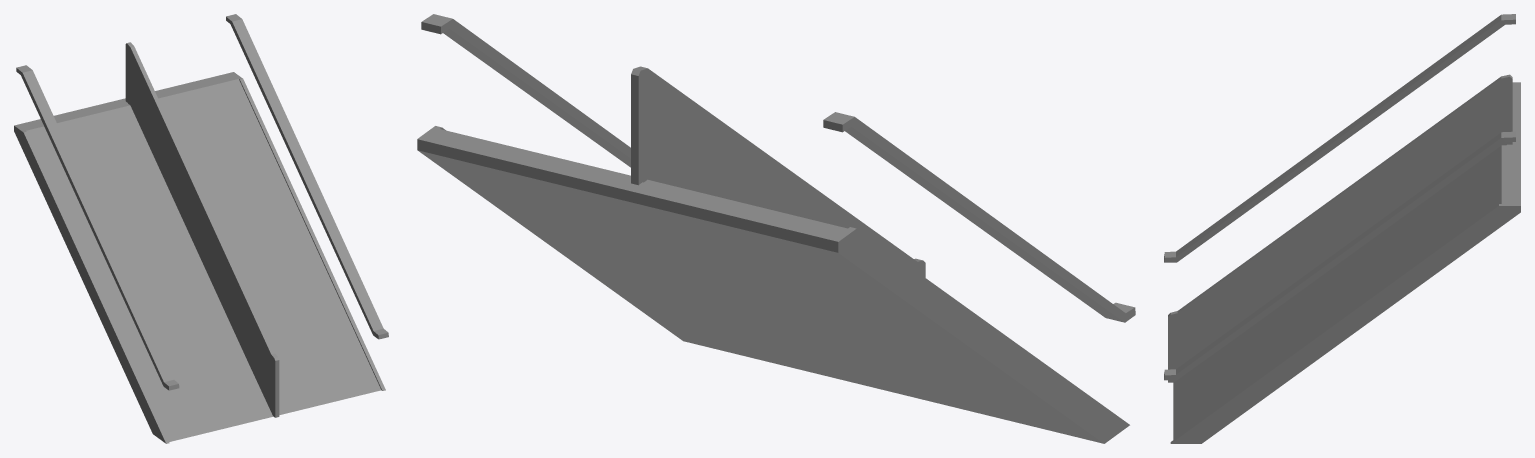
Rendered from SW_ENV_StationStair_Long_FF_Collision.fbx.
The picture shows the model from 3 angles, left to right: view 1: azimuth 30°, elevation 25°; view 2: azimuth 150°, elevation 25°; view 3: azimuth 270°, elevation 25°; orthographic projection. The views are drawn at different scales.
Visible parts, largest first — view 1: SW_ENV_StationStair_Long_FF_Collision; view 2: SW_ENV_StationStair_Long_FF_Collision; view 3: SW_ENV_StationStair_Long_FF_Collision.
Part boxes in pixels (box(x1,y1,x2,y2)): SW_ENV_StationStair_Long_FF_Collision: box(14, 14, 388, 443); SW_ENV_StationStair_Long_FF_Collision: box(417, 14, 1135, 443); SW_ENV_StationStair_Long_FF_Collision: box(1164, 14, 1520, 443).
Size of the model in its own units: 4 by 4.64 by 4.89.
